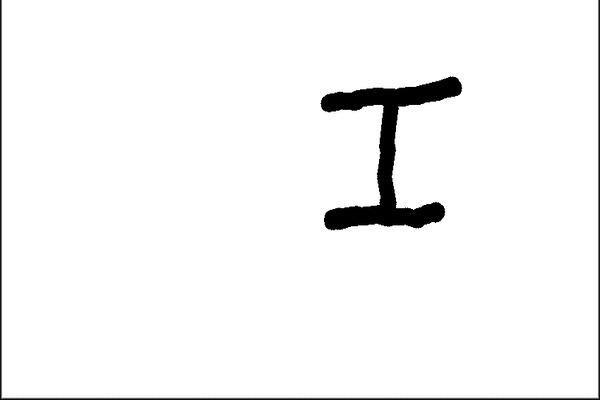i: (319, 67, 456, 228)
